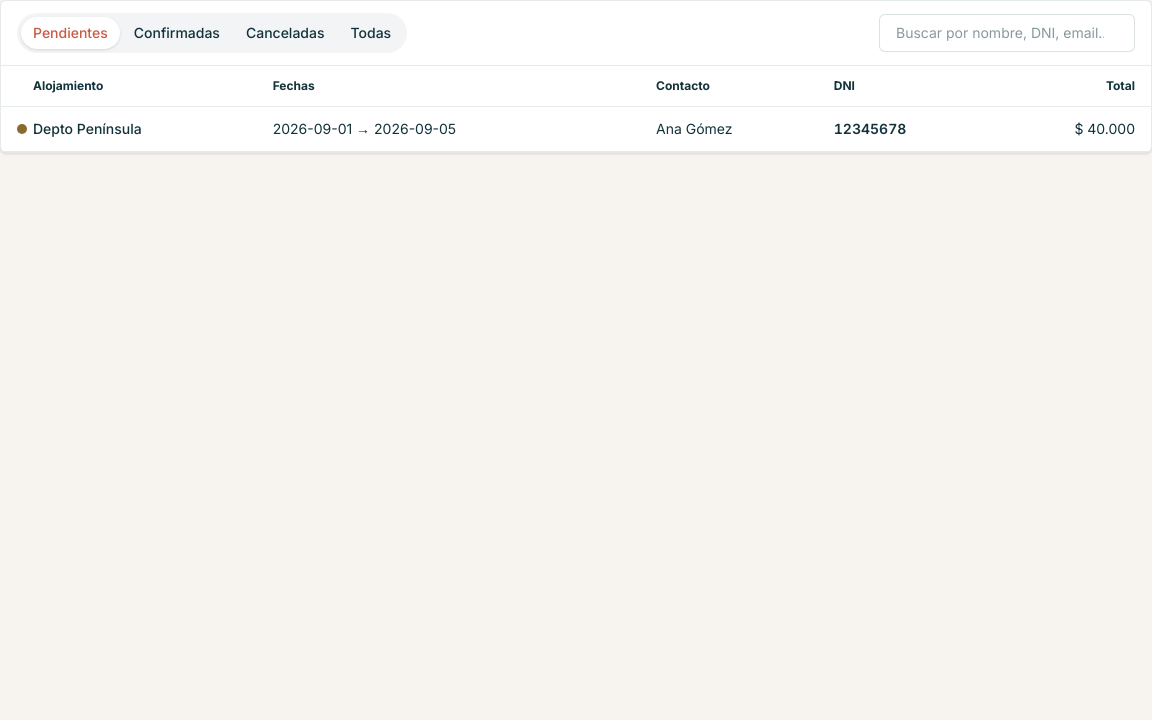
Test: ReservasTable — fila expandible › clickear Editar abre el formulario de edición sin cerrar la fila
Click the text "Depto Península" at (87, 128), box [33,106,273,152]
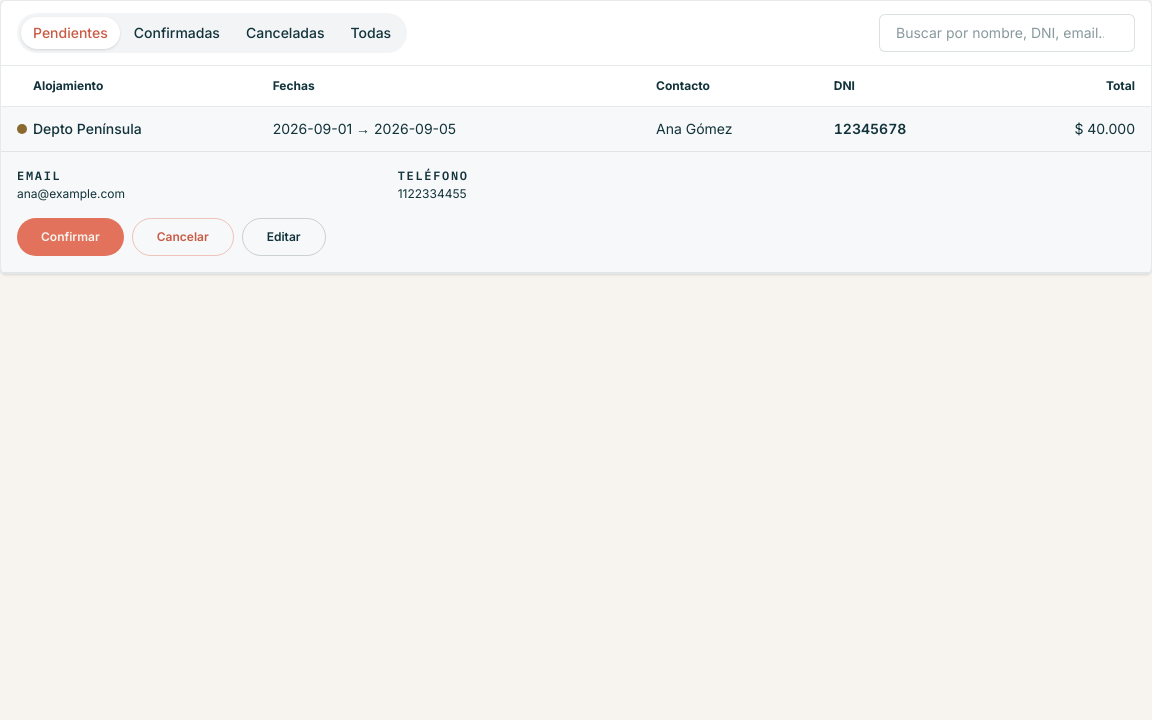
Click the button "Editar" at (284, 237), box [242,218,326,256]
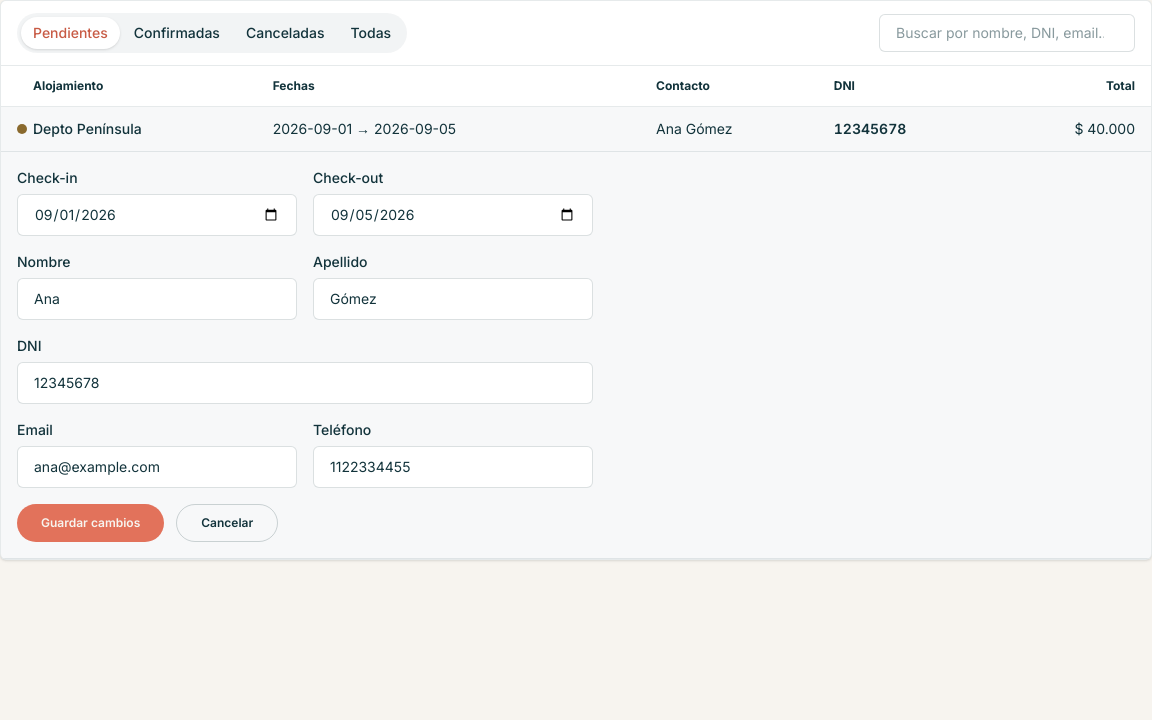
Expected: the button "Guardar cambios" is shown, [17,504,164,542]
